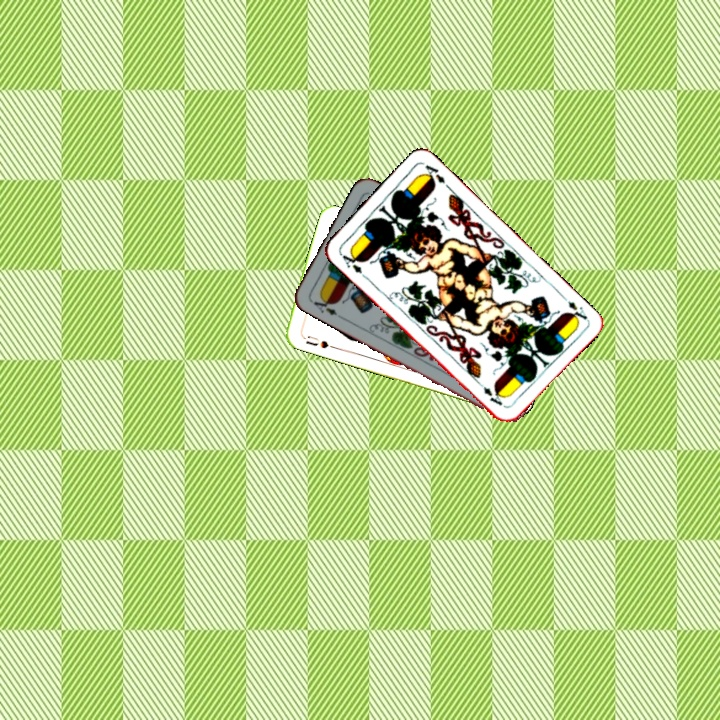EA: (557, 291, 590, 326), (310, 292, 344, 321), (336, 247, 365, 276)
SU: (297, 329, 331, 351)
